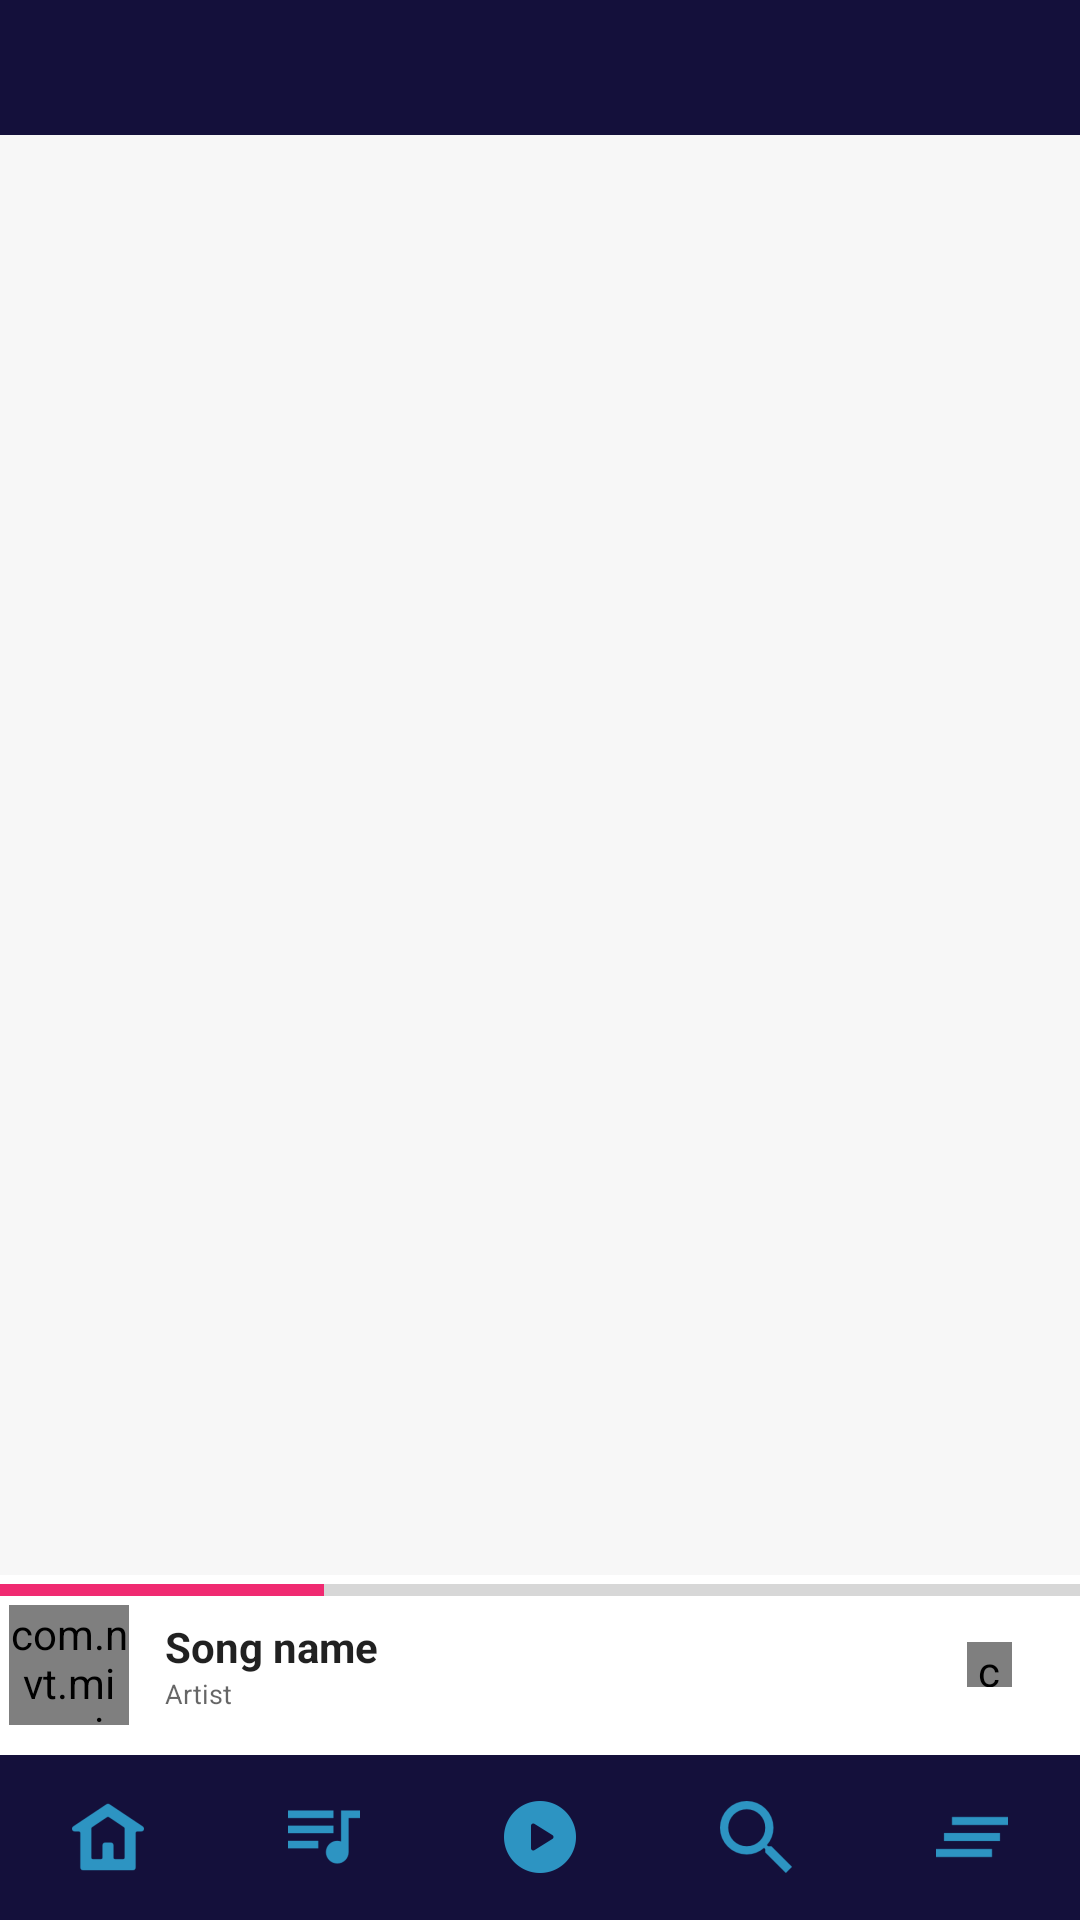

Point at icon controls on the screen. Image size 1080px×1920px, points as (x=x, y=y).
home: (x=108, y=1837)
menu: (x=972, y=1837)
play: (x=540, y=1837)
search: (x=756, y=1837)
